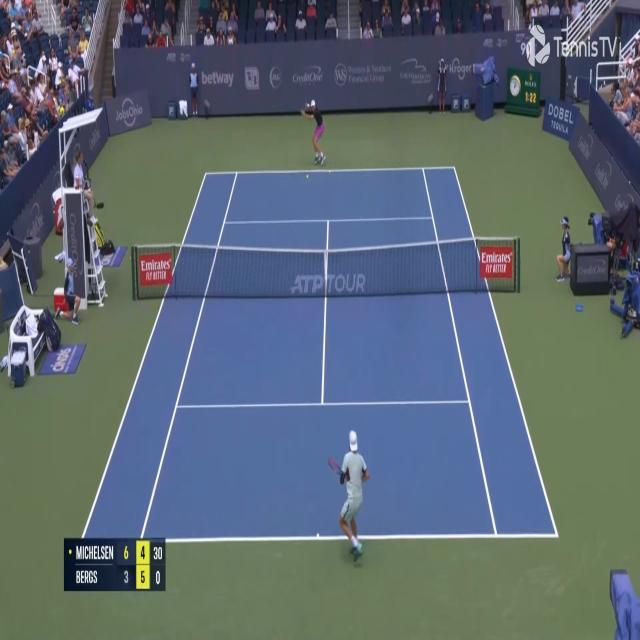tennis-player: (327, 428, 370, 559), (299, 98, 328, 166)
